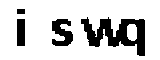i: (9, 6, 30, 52)
q: (120, 15, 150, 60)
s: (47, 19, 75, 50)
w: (79, 16, 122, 51)
